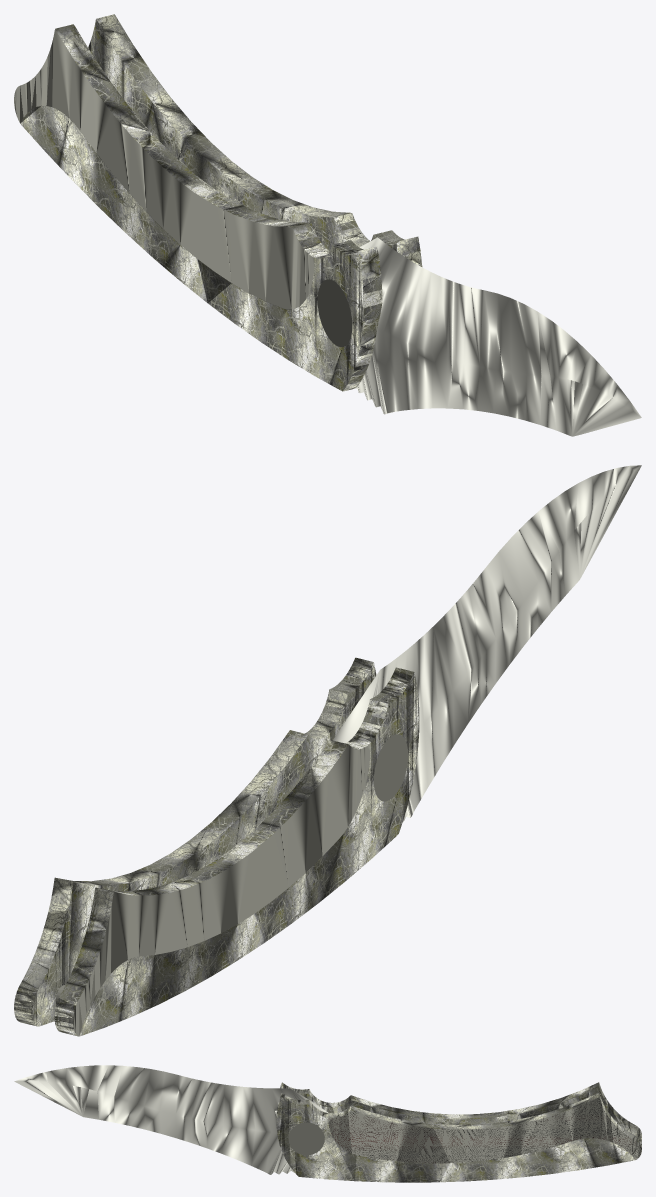
Rendered from model_align.obj.
3 views of the same model, one above another, from view 1: azimuth 30°, elevation 25°; view 2: azimuth 150°, elevation 25°; view 3: azimuth 270°, elevation 25° (orthographic). The views are drawn at different scales.
Size of the model in its own units: 0.013 by 0.0434 by 0.2264.
Materials: 4 (4 with a texture image).
